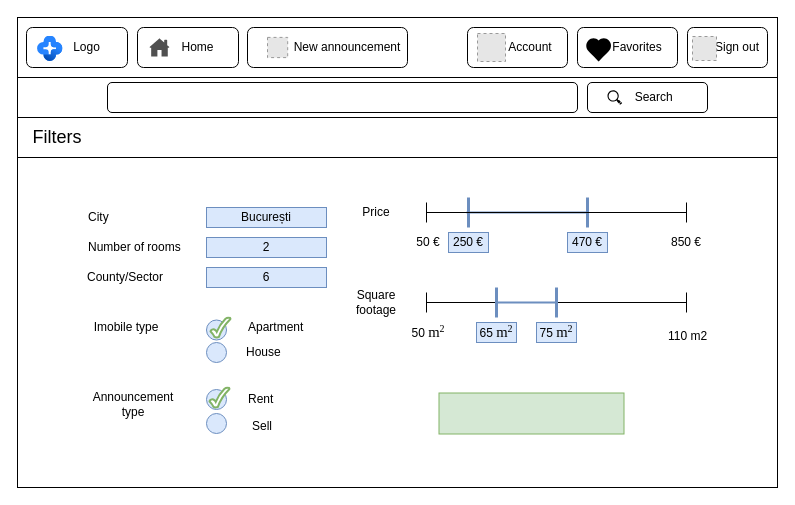
Some shapes in this 795 by 505 pixel diagram are drawn without their labels. Grey dashed boxes stand in for pictures. Each missing label, with the centre of its shape:
Enter keywords....: point (342, 97)
Submit: point (531, 413)
